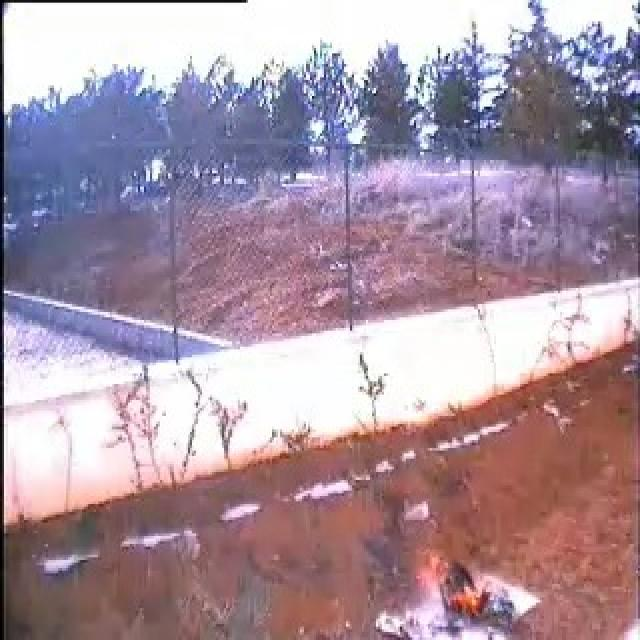fire: (446, 587, 488, 620)
